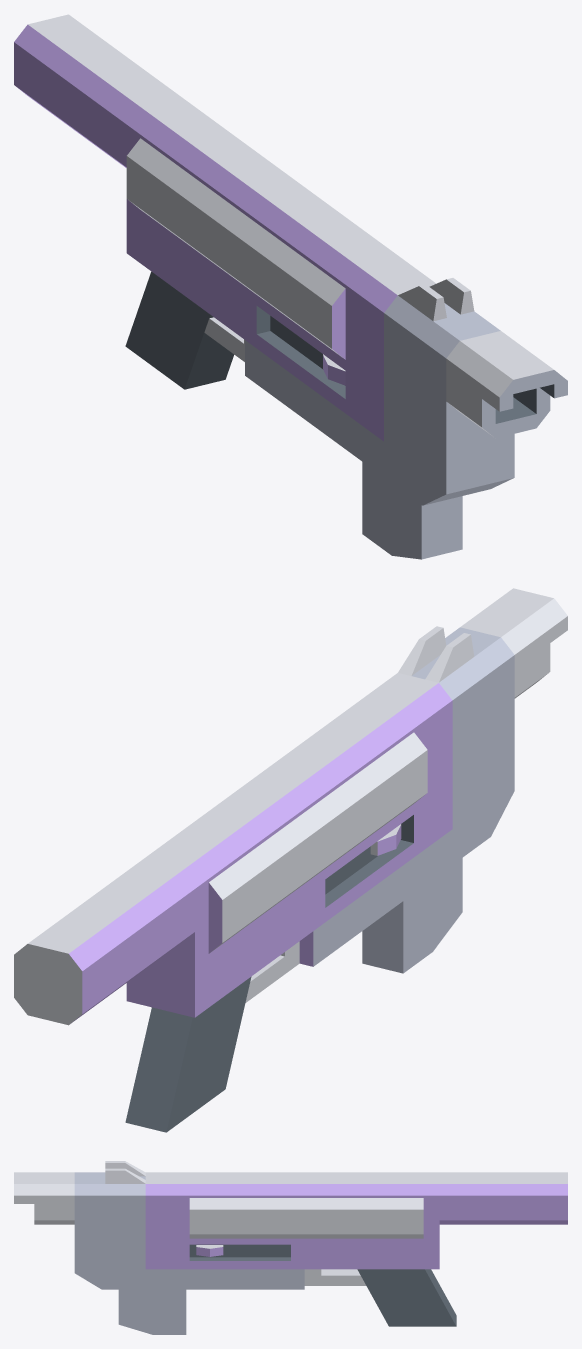
Rendered from BlastRifleModel.fbx.
3 views of the same model, one above another, from view 1: azimuth 30°, elevation 25°; view 2: azimuth 150°, elevation 25°; view 3: azimuth 270°, elevation 25° (orthographic). The views are drawn at different scales.
Parts seen in each view (by area): view 1: blasterA; view 2: blasterA; view 3: blasterA.
Boxes of the visible parts, bbox=[...] form: blasterA: bbox=[14, 14, 567, 559]; blasterA: bbox=[14, 588, 567, 1132]; blasterA: bbox=[14, 1161, 567, 1334].
Size of the model in its own units: 140 by 400 by 1230.
